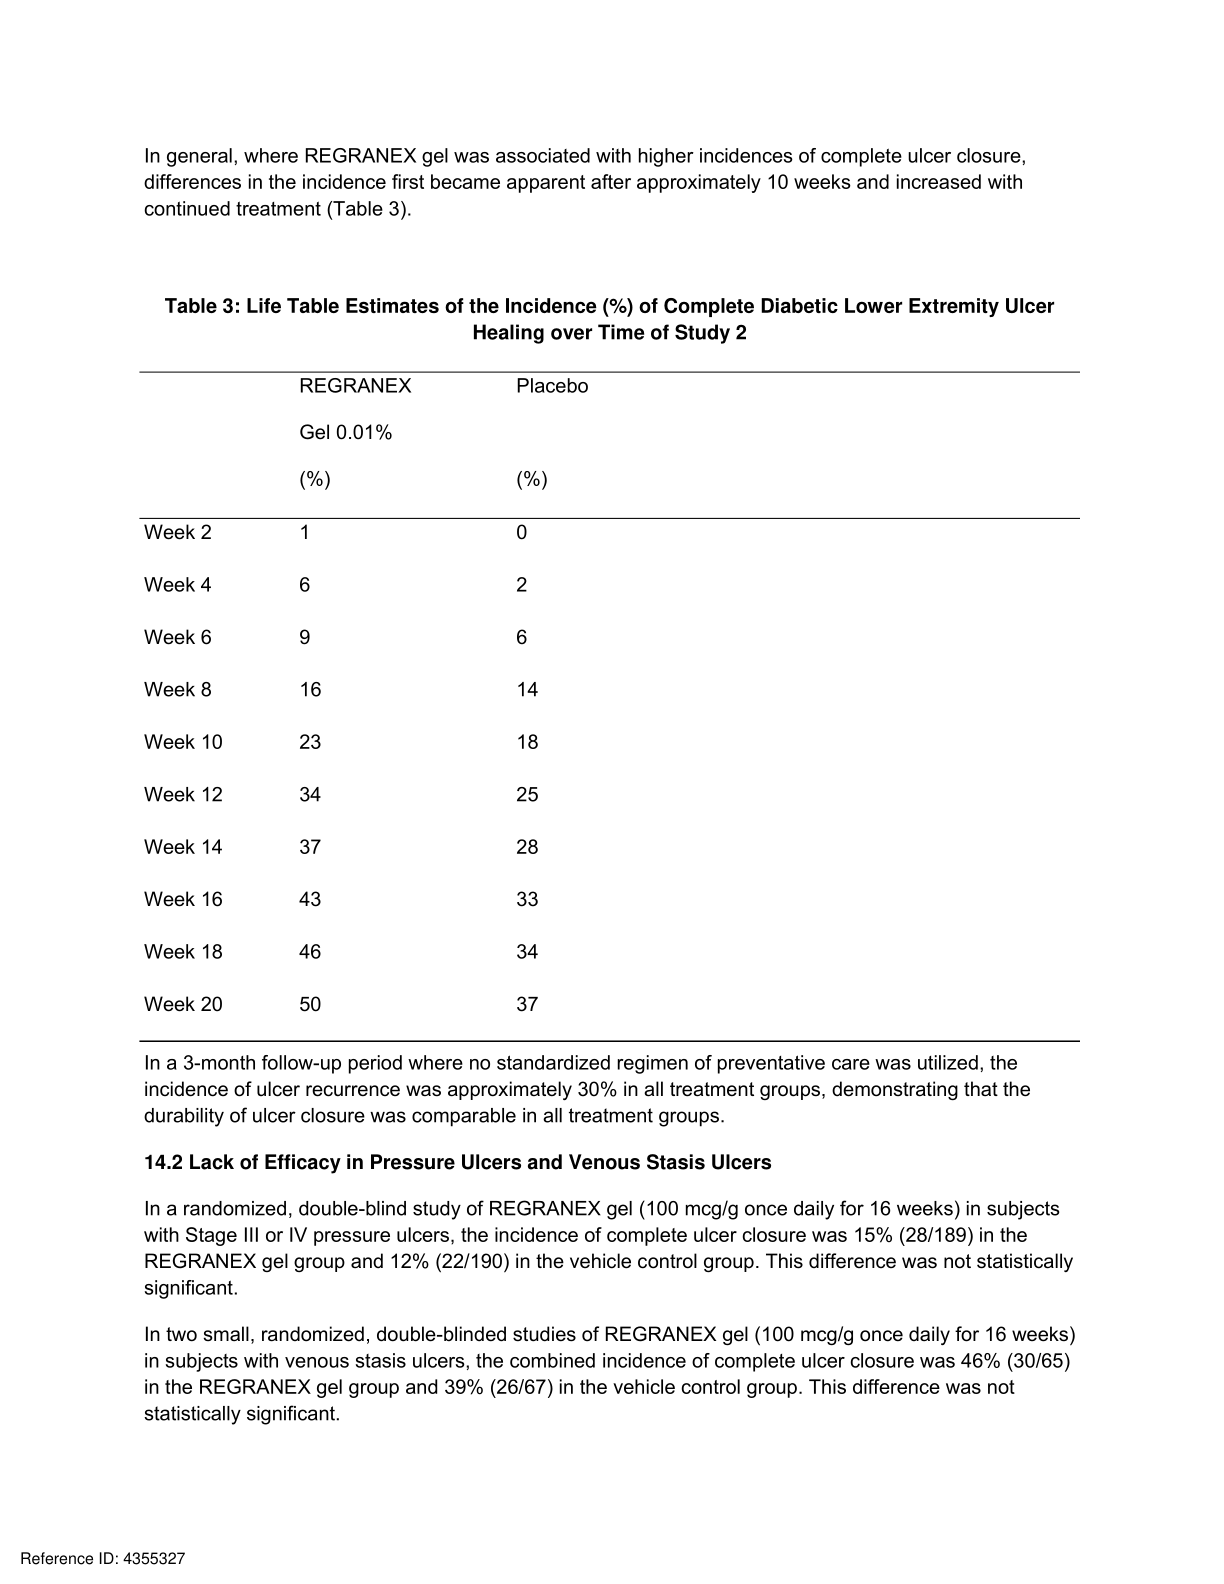partial_lined: (135, 368, 1084, 1044)
